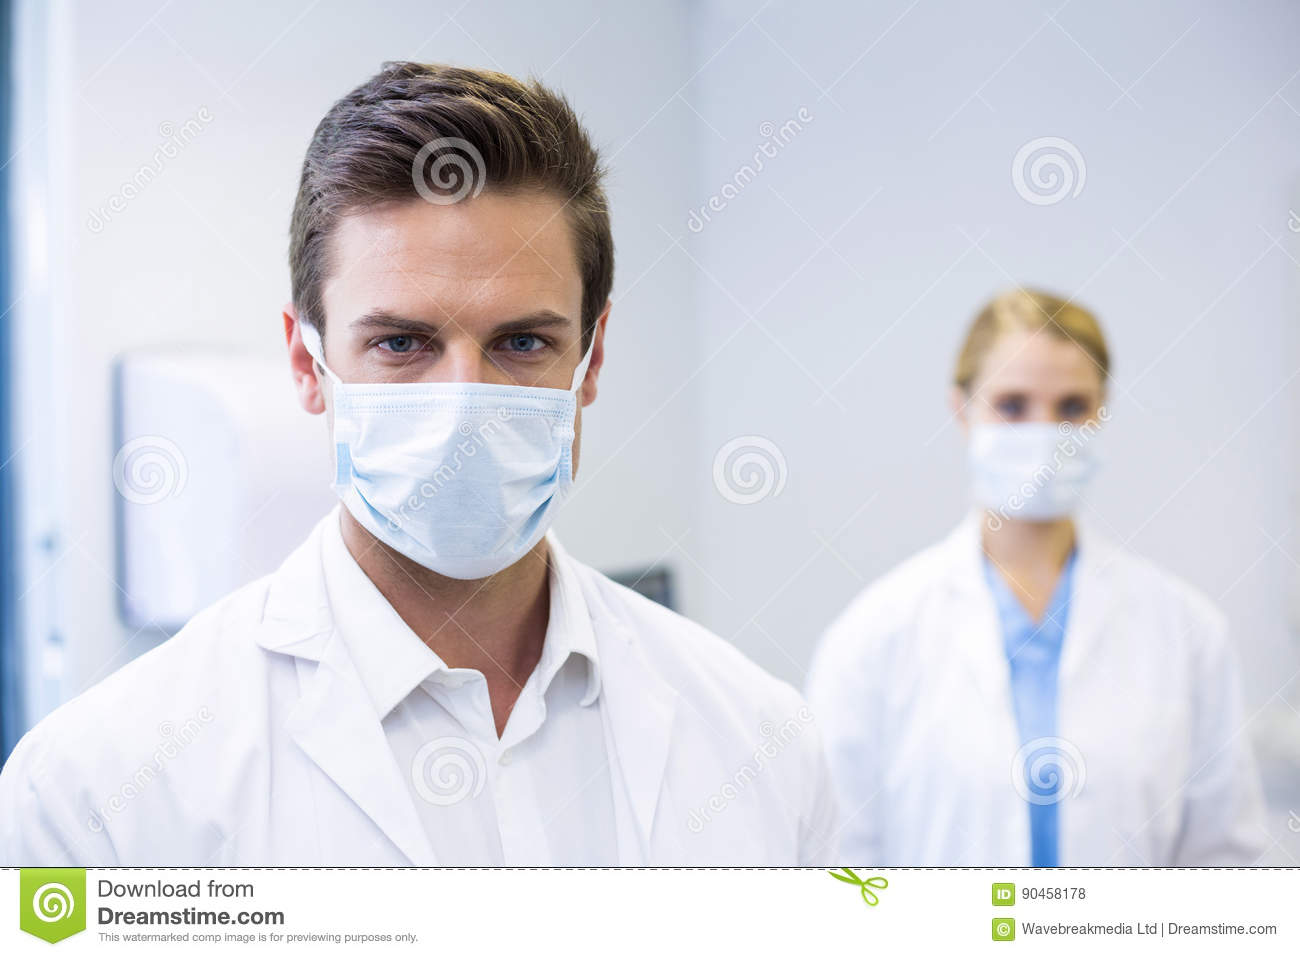mask: (316, 366, 573, 591), (963, 429, 1113, 520)
